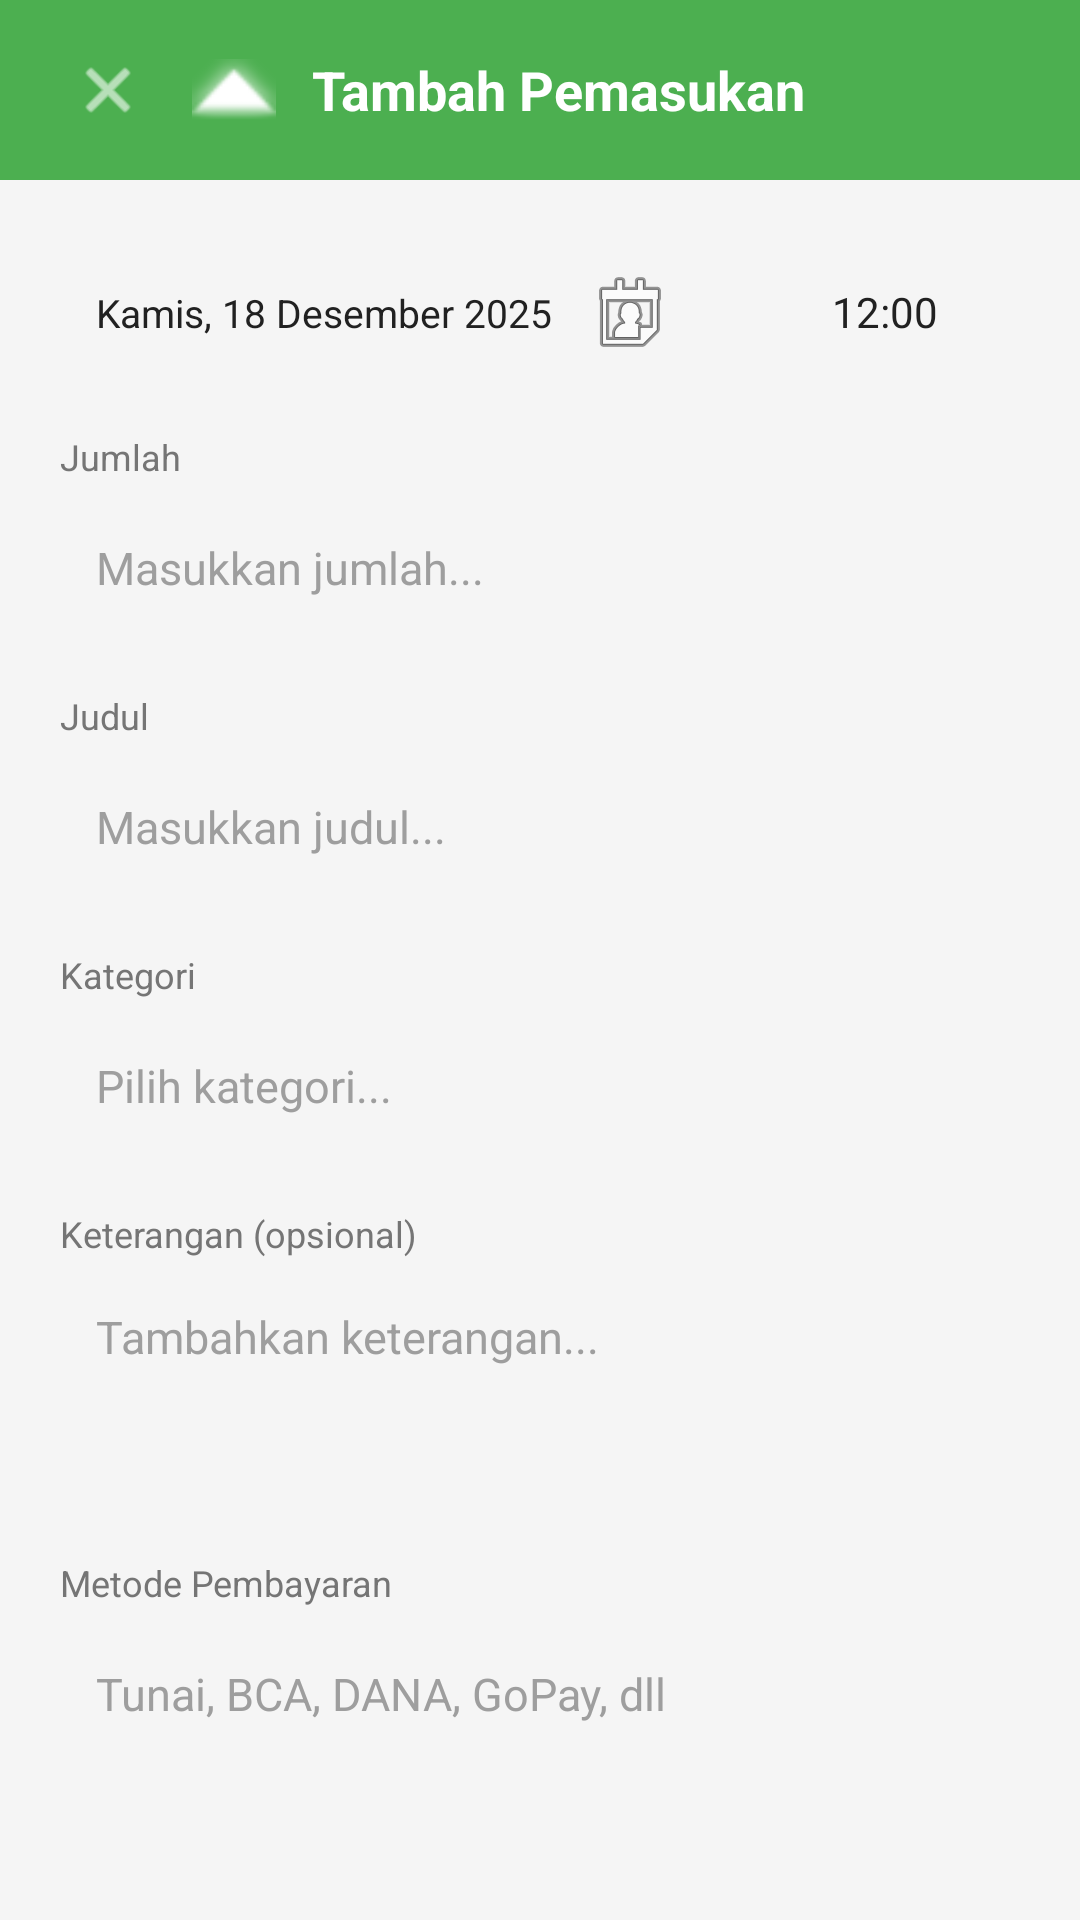

Screen size 1080w x 1920h. Icon name, then its center in pixels as (x,y):
arrow up float: (234,90)
close clear cancel: (108,90)
